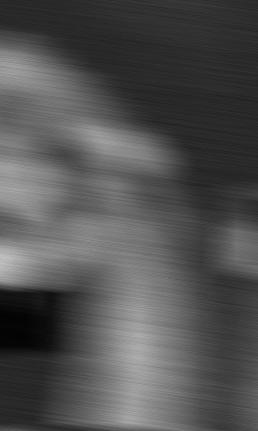Airbag: (0, 0, 258, 430), (236, 0, 258, 430), (0, 427, 258, 431), (236, 427, 258, 431)
